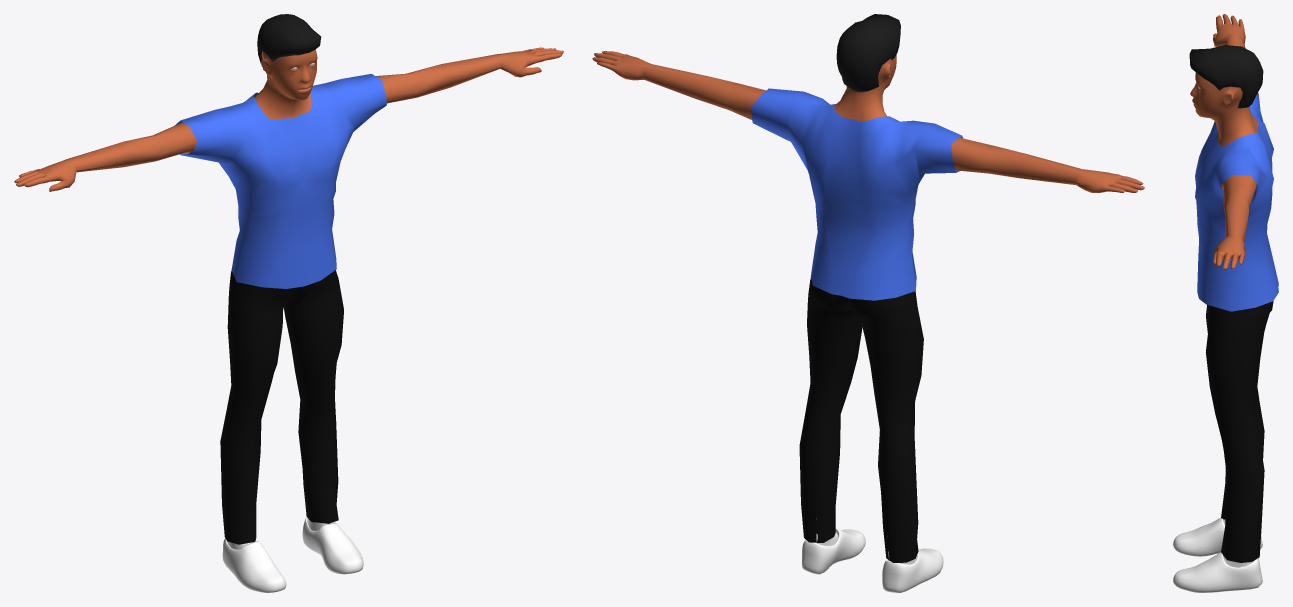
File: Man 7.obj
The picture shows the model from 3 angles, left to right: view 1: azimuth 30°, elevation 25°; view 2: azimuth 150°, elevation 25°; view 3: azimuth 270°, elevation 25°; orthographic projection. The views are drawn at different scales.
Parts seen in each view (by area): view 1: Human:Male1591.001, Human:Male1591.002, Human:Male1591, Human:Shoes05, Human:Male1591.003_Human:Male1591.005; view 2: Human:Male1591.001, Human:Male1591.002, Human:Male1591, Human:Shoes05, Human:Male1591.003_Human:Male1591.005; view 3: Human:Male1591.002, Human:Male1591.001, Human:Male1591, Human:Shoes05, Human:Male1591.003_Human:Male1591.005.
Boxes of the visible parts, x1,y1,x2,y2 form: Human:Male1591.001: [174, 74, 387, 288]; Human:Male1591.002: [220, 270, 343, 544]; Human:Male1591: [14, 47, 563, 191]; Human:Shoes05: [222, 517, 363, 592]; Human:Male1591.003_Human:Male1591.005: [257, 14, 321, 73]; Human:Male1591.001: [750, 88, 963, 300]; Human:Male1591.002: [799, 278, 923, 562]; Human:Male1591: [592, 51, 1144, 193]; Human:Shoes05: [802, 518, 943, 592]; Human:Male1591.003_Human:Male1591.005: [836, 14, 900, 92]; Human:Male1591.002: [1206, 301, 1273, 562]; Human:Male1591.001: [1195, 93, 1278, 311]; Human:Male1591: [1190, 14, 1258, 269]; Human:Shoes05: [1173, 518, 1262, 592]; Human:Male1591.003_Human:Male1591.005: [1189, 45, 1263, 108].
Bounding box in the file's own units: 19.93 × 19.06 × 3.51.
